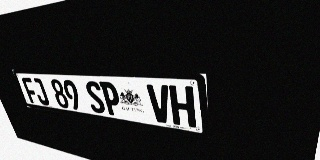8: (49, 79, 70, 109)
9: (61, 79, 83, 111)
F: (21, 77, 40, 104)
H: (169, 85, 196, 128)
J: (31, 78, 50, 106)
P: (99, 81, 123, 117)
S: (84, 81, 107, 114)
V: (146, 84, 173, 124)
